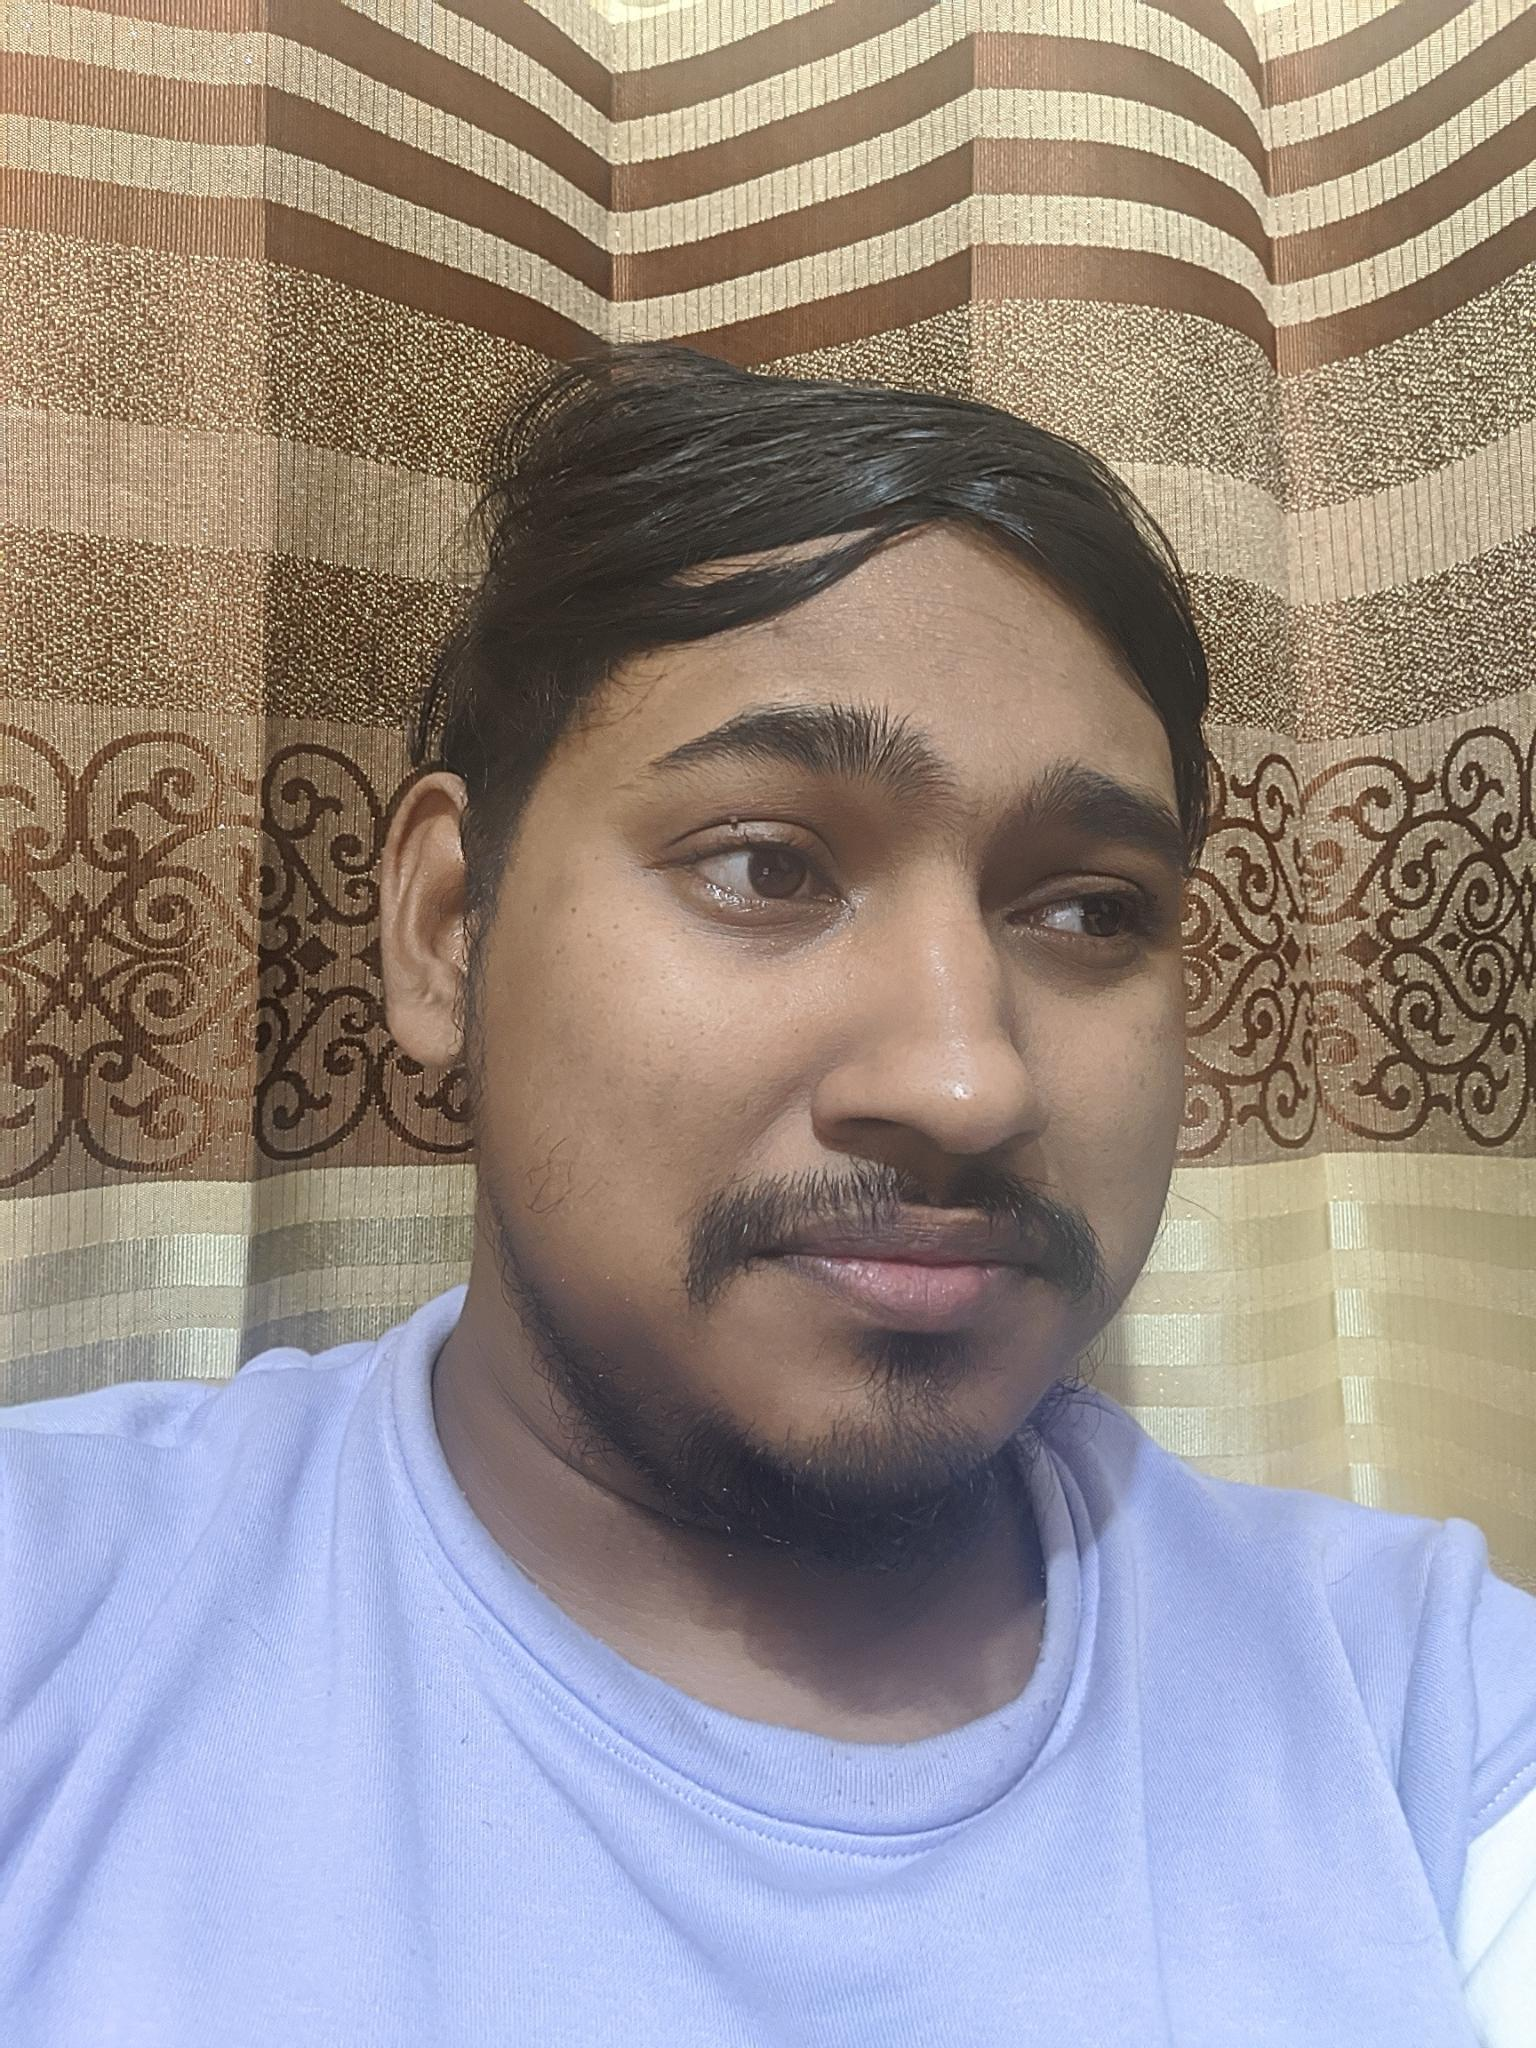Sad: (539, 574, 1215, 1559)
